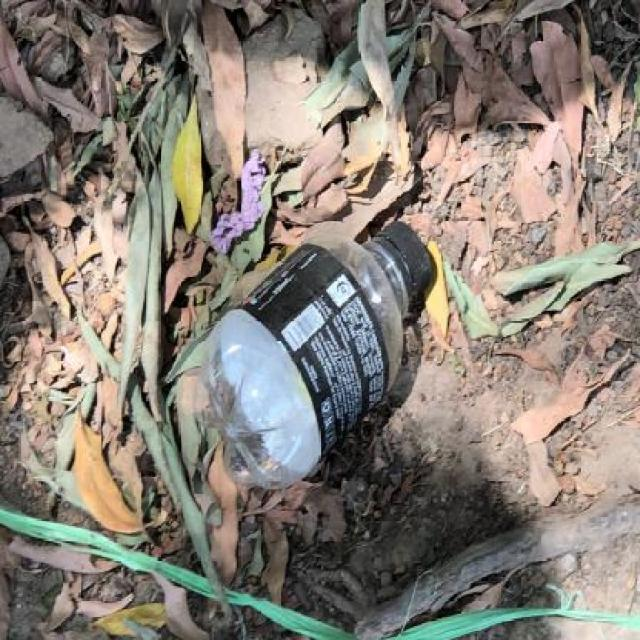garbage: (151, 143, 574, 528)
